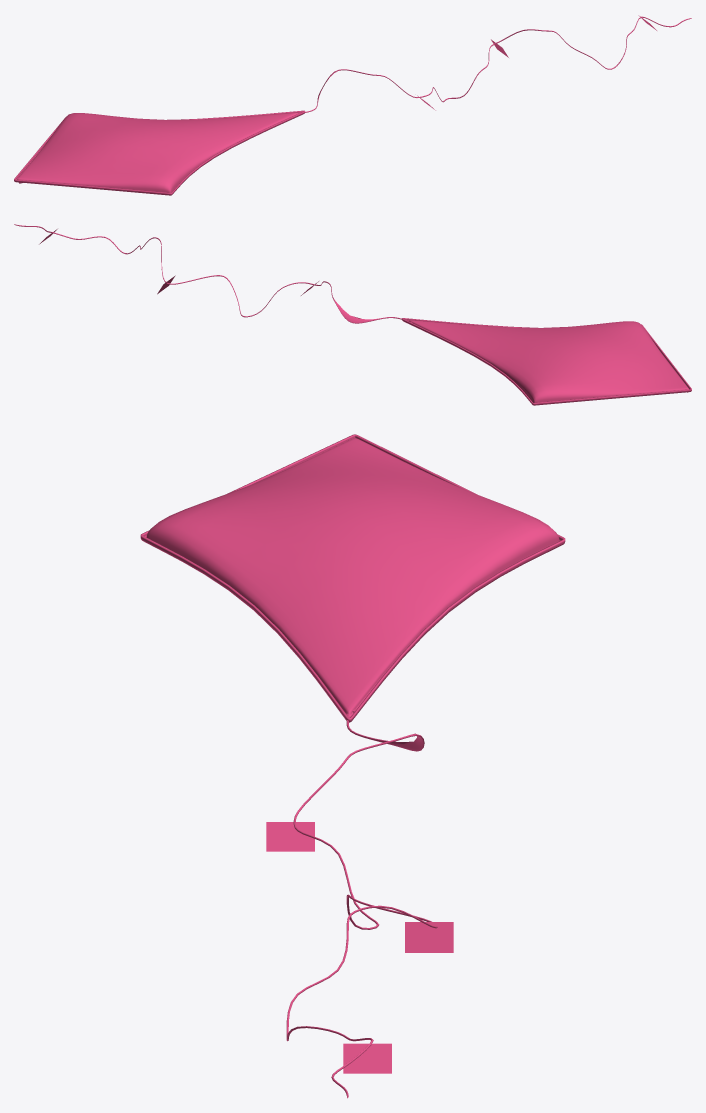
The model's file is brise-d-amour_cerfvolant_RIGGED.fbx.
3 renders of one model, top to bottom at view 1: azimuth 30°, elevation 25°; view 2: azimuth 150°, elevation 25°; view 3: azimuth 270°, elevation 25°, orthographic. The views are drawn at different scales.
Parts seen in each view (by area): view 1: Plane.001; view 2: Plane.001; view 3: Plane.001.
Part boxes in pixels (box(x1,y1,x2,y2)): Plane.001: box(14, 15, 691, 195); Plane.001: box(14, 224, 691, 405); Plane.001: box(140, 434, 565, 1098).
Bounding box in the file's own units: 718 × 51.94 × 195.
